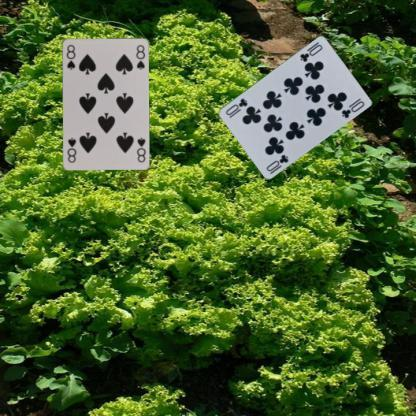10c: (298, 39, 324, 64), (264, 152, 290, 173)
8s: (134, 134, 146, 164), (64, 42, 76, 70)
